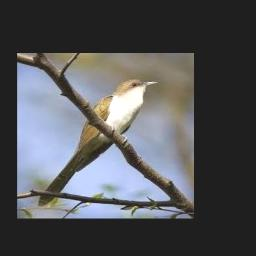Cuckoo: (37, 80, 159, 206)
